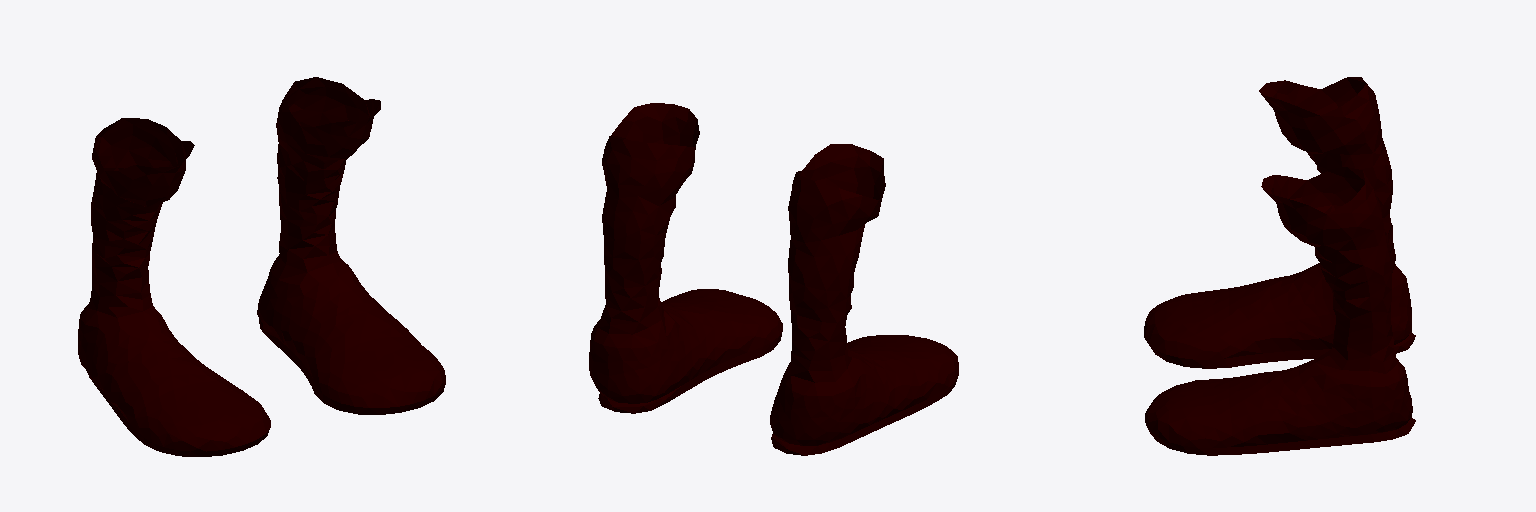
Rendered from donfernando_boots.obj.
The picture shows the model from 3 angles: view 1: azimuth 30°, elevation 25°; view 2: azimuth 150°, elevation 25°; view 3: azimuth 270°, elevation 25°; orthographic projection.
Parts seen in each view (by area): view 1: object; view 2: object; view 3: object.
Part boxes in pixels (x1,y1,x2,y2): object: (78,77,445,456); object: (589,103,958,455); object: (1144,77,1415,455).
Bounding box in the file's own units: 0.2181 × 0.1827 × 0.176.